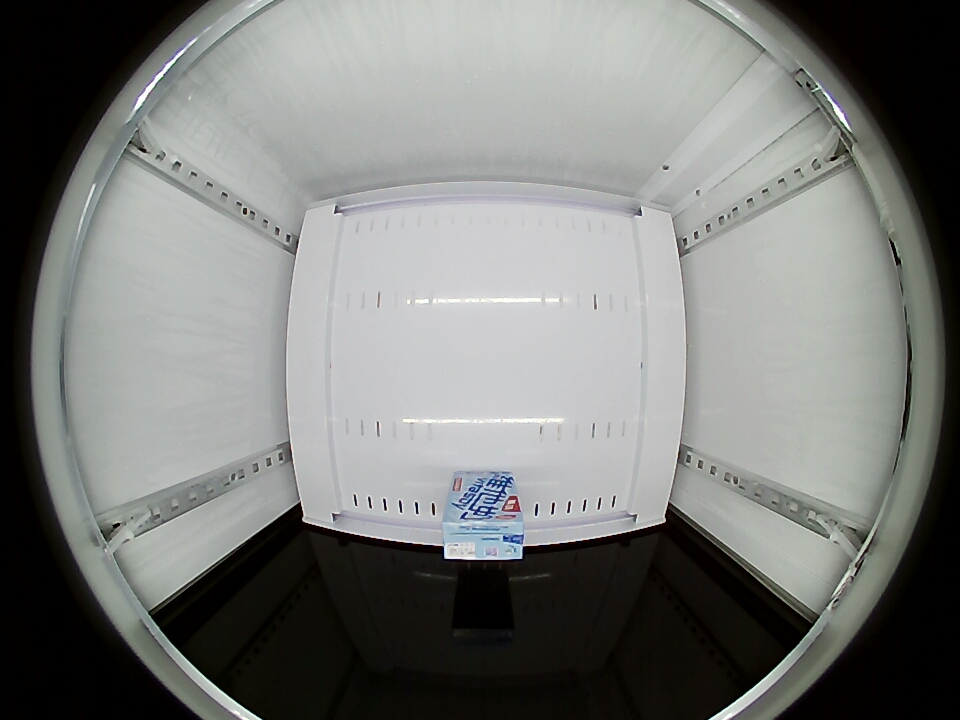weitanaiditang: (442, 504, 525, 560)
